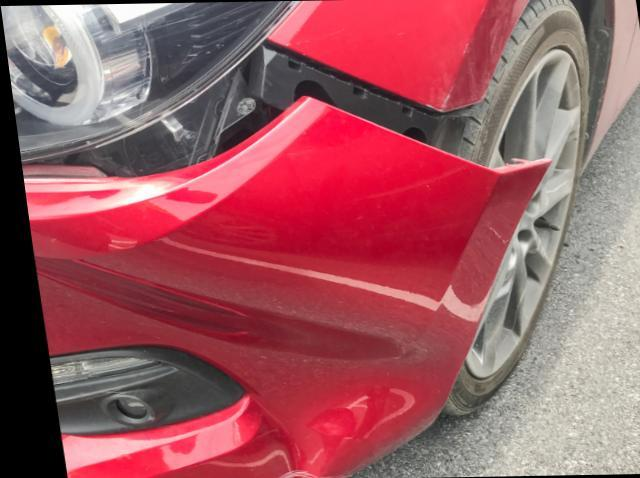dent: (27, 254, 393, 478)
dislocated part: (17, 43, 542, 478)
